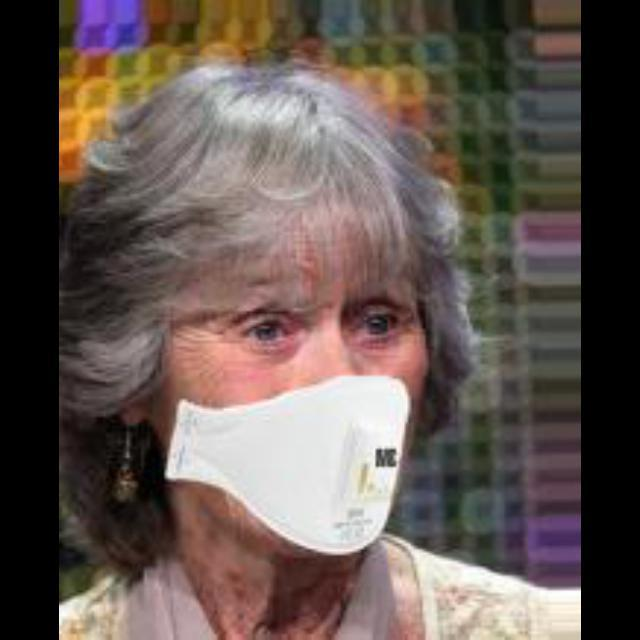suspicion: (78, 161, 450, 545)
